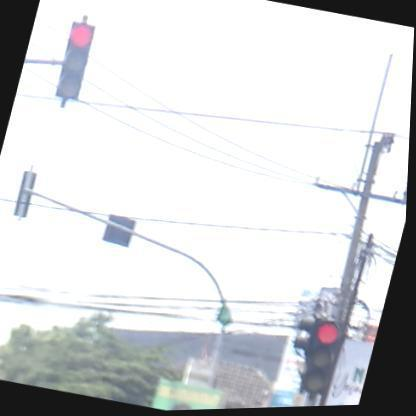red: (300, 317, 348, 400), (50, 22, 96, 104)
